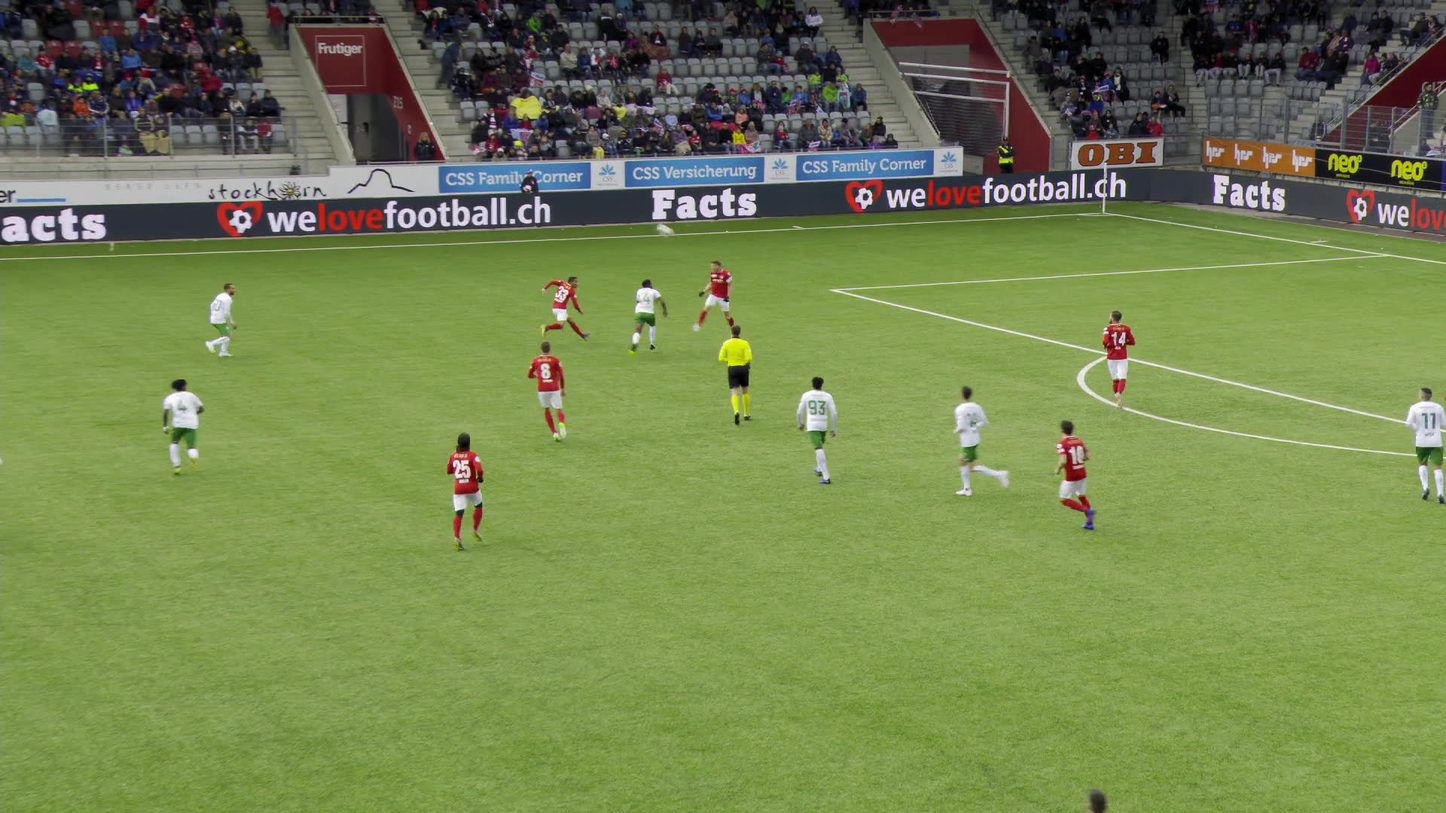ball: (656, 223, 674, 236)
player: (950, 384, 1015, 497), (1058, 418, 1112, 529), (445, 435, 488, 548), (531, 345, 575, 445), (167, 381, 213, 475), (802, 376, 841, 483), (1407, 389, 1442, 501), (696, 263, 743, 346), (200, 284, 249, 355), (538, 278, 585, 347), (629, 280, 670, 358), (1102, 311, 1134, 407), (1081, 783, 1117, 808), (0, 433, 11, 469), (1443, 391, 1445, 400)
referee: (720, 326, 754, 421)
